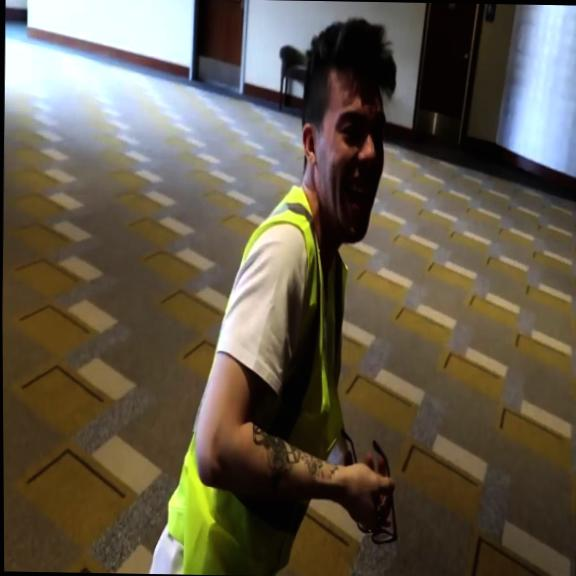safety_vest: (157, 179, 350, 576)
